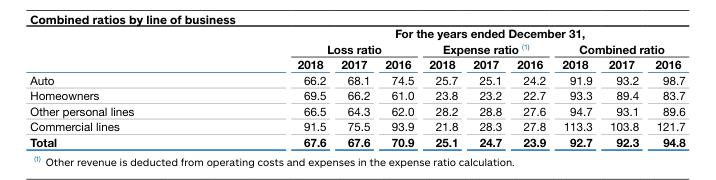table: (29, 28, 684, 149)
table column: (29, 28, 215, 149), (215, 28, 333, 149), (599, 28, 646, 149), (553, 28, 599, 149), (508, 28, 553, 149), (333, 28, 377, 149), (420, 28, 464, 149), (464, 28, 508, 149), (377, 28, 420, 149), (646, 28, 684, 149)
table column header: (29, 28, 684, 73)
table row: (29, 57, 684, 73), (29, 88, 684, 104), (29, 119, 684, 135), (29, 42, 684, 57), (29, 73, 684, 88), (29, 104, 684, 119), (29, 28, 684, 42), (29, 135, 684, 149)
table spanning cell: (215, 28, 684, 42), (215, 42, 420, 57), (420, 42, 553, 57), (553, 42, 684, 57)
